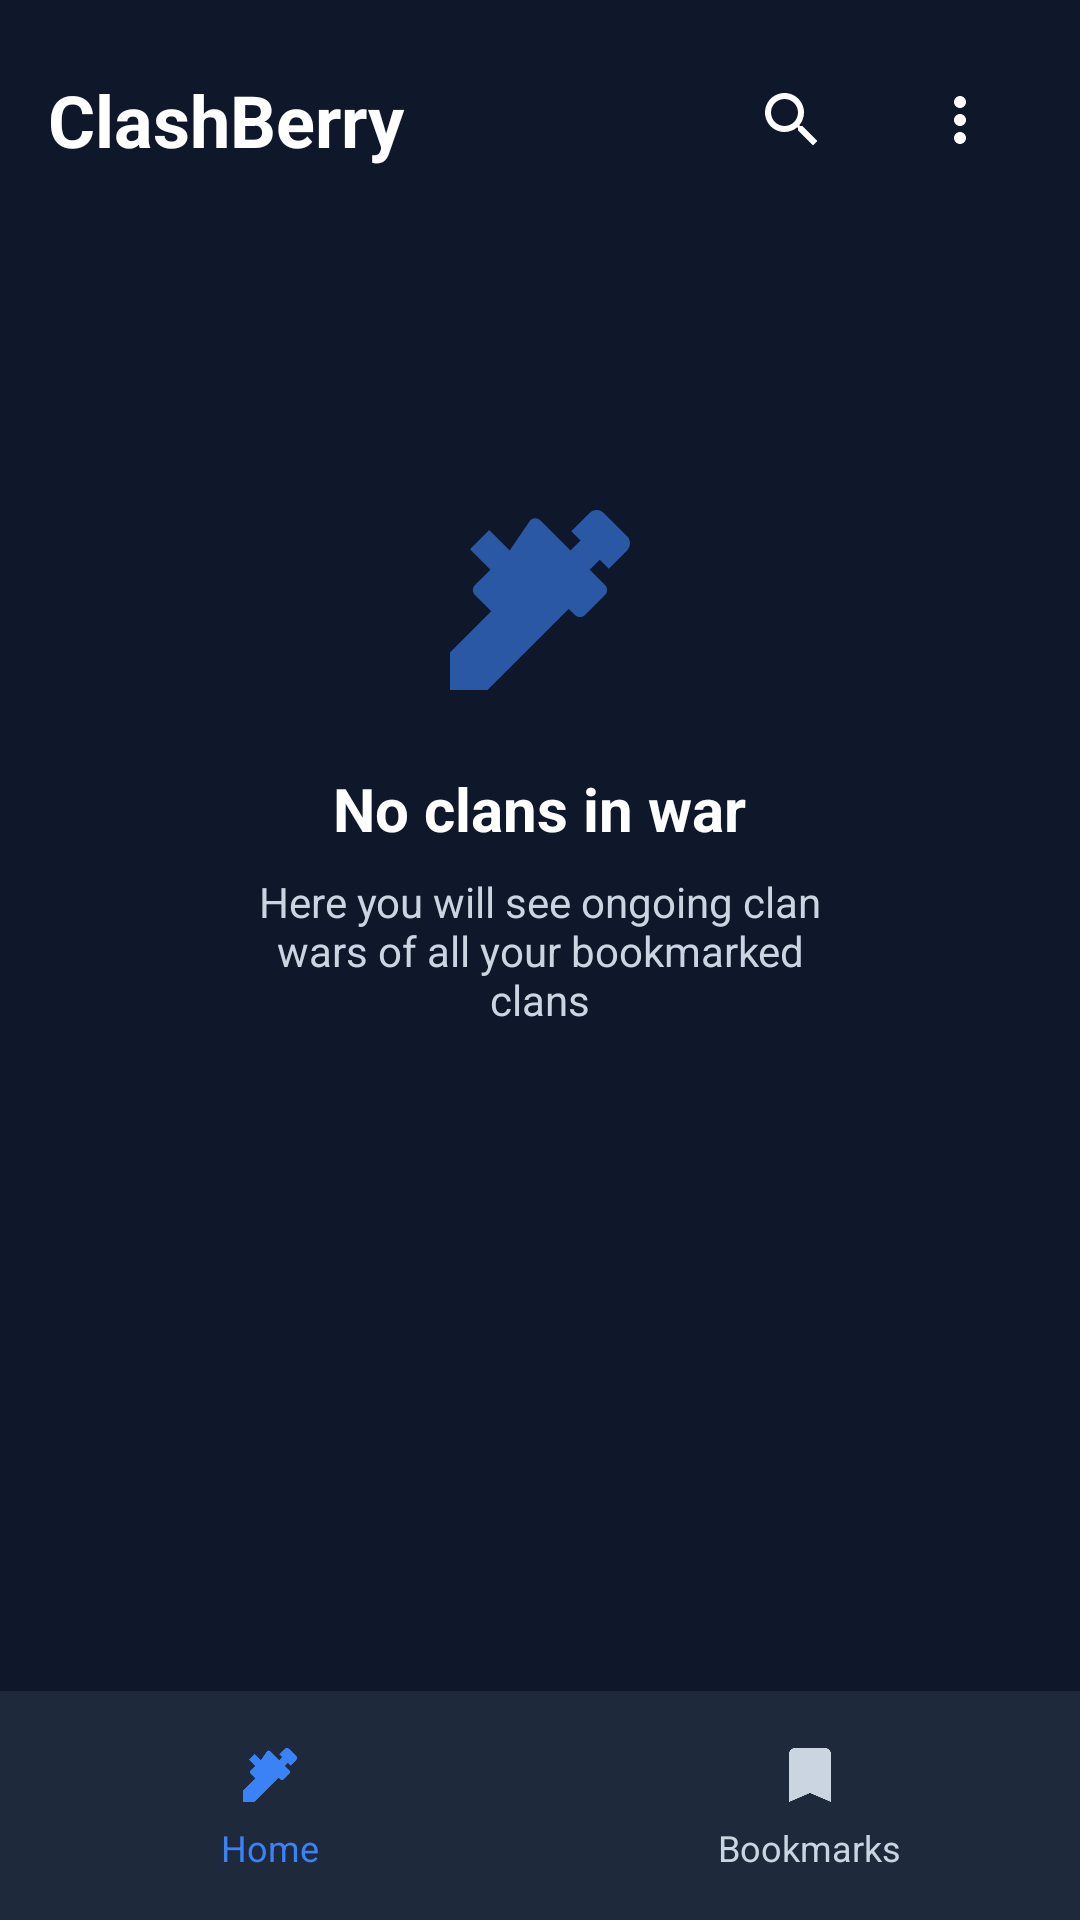

Icon click points for this 1080px×1920px phone screenshot, format [x,y]:
Menu: [960,120]
Search Clans: [791,119]
